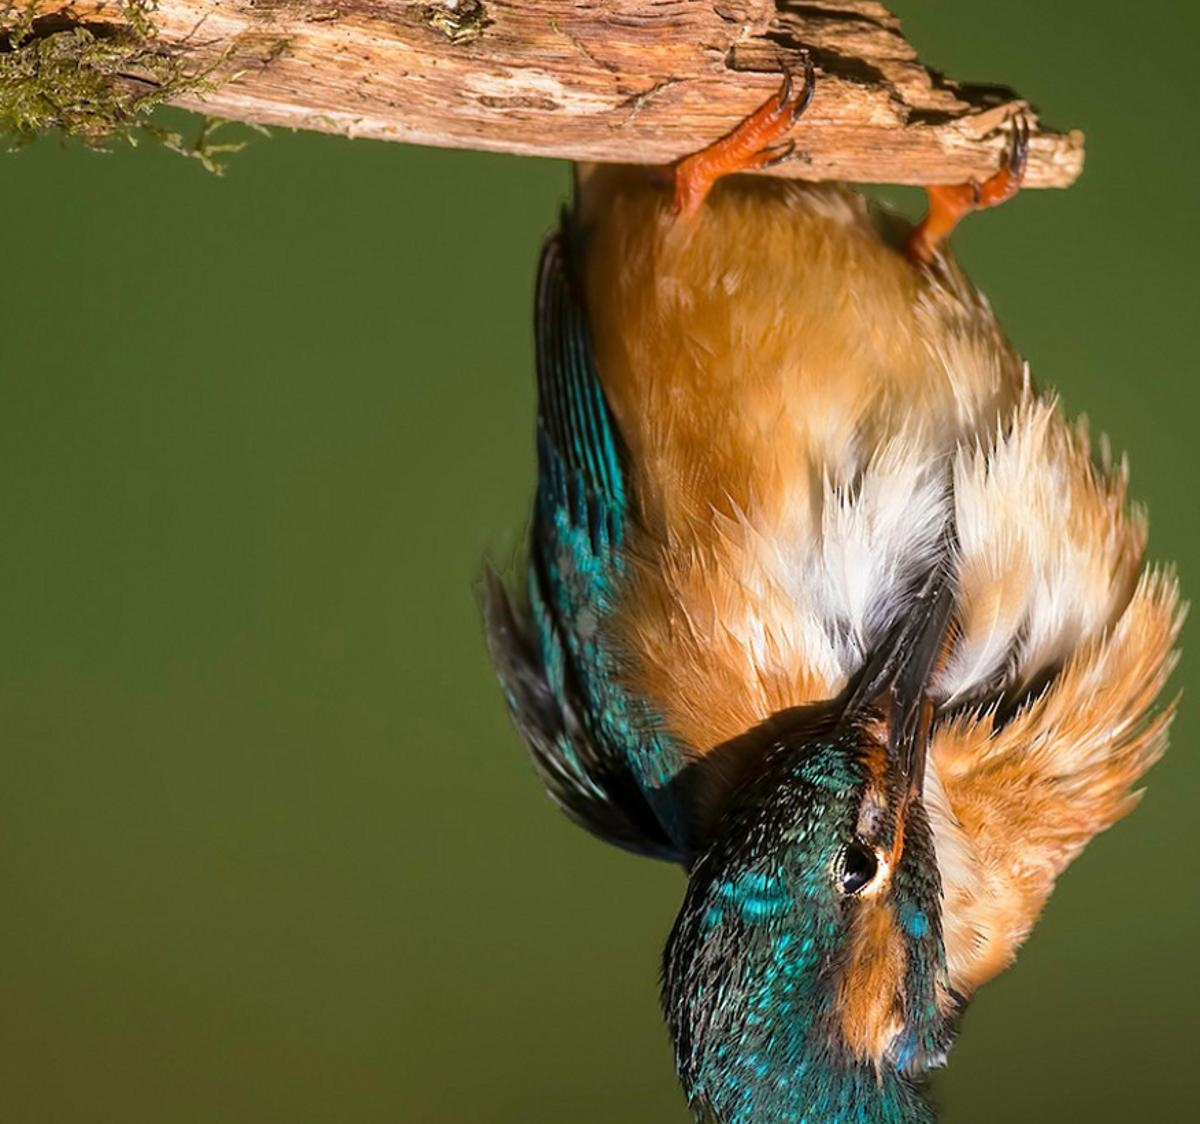kingfisher: (541, 107, 1149, 1117)
